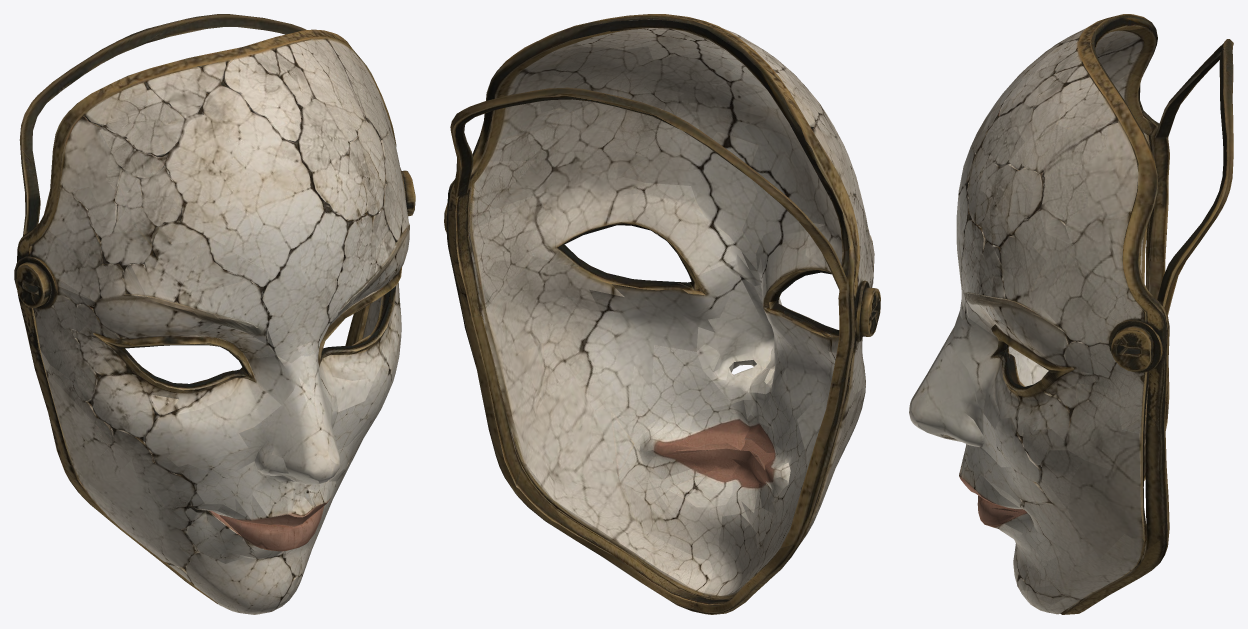
3 renders of one model, left to right at view 1: azimuth 30°, elevation 25°; view 2: azimuth 150°, elevation 25°; view 3: azimuth 270°, elevation 25°, orthographic. The views are drawn at different scales.
Visible parts, largest first — view 1: grace-8k; view 2: grace-8k; view 3: grace-8k.
Boxes of the visible parts, x1,y1,x2,y2 form: grace-8k: [14, 14, 415, 614]; grace-8k: [444, 14, 880, 614]; grace-8k: [909, 14, 1233, 614].
Size of the model in its own units: 1.4 by 1.9 by 0.9889.
Materials: 1 (1 with a texture image).
